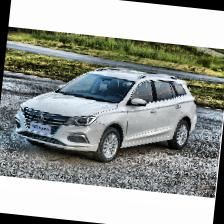EV: (12, 57, 203, 172)
